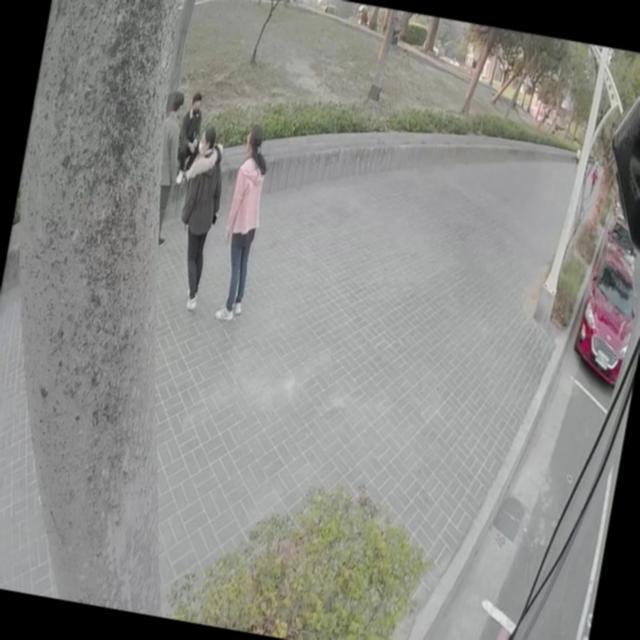person: (164, 120, 231, 310), (210, 122, 274, 320), (144, 90, 188, 246), (173, 89, 205, 184)
